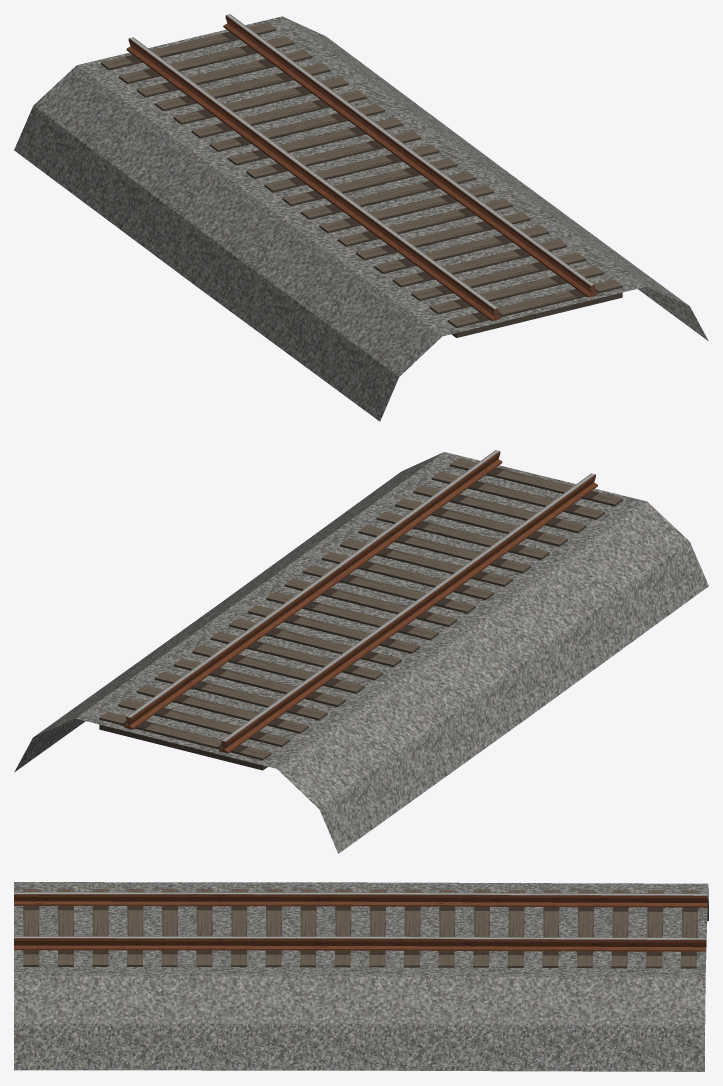
The model's file is rail_track_curve_r875_10m_r_v2.glb.
The picture shows the model from 3 angles, top to bottom: view 1: azimuth 30°, elevation 25°; view 2: azimuth 150°, elevation 25°; view 3: azimuth 270°, elevation 25°; orthographic projection. The views are drawn at different scales.
Visible parts, largest first — view 1: rail_track_curve_r875_10m_r_v2; view 2: rail_track_curve_r875_10m_r_v2; view 3: rail_track_curve_r875_10m_r_v2.
Boxes of the visible parts, x1,y1,x2,y2 form: rail_track_curve_r875_10m_r_v2: (14, 14, 708, 421); rail_track_curve_r875_10m_r_v2: (14, 450, 708, 853); rail_track_curve_r875_10m_r_v2: (14, 882, 708, 1071).
Size of what is drawn, in the model's own units: 5.21 by 1.27 by 10.03.
Materials: 2 (2 with a texture image).
